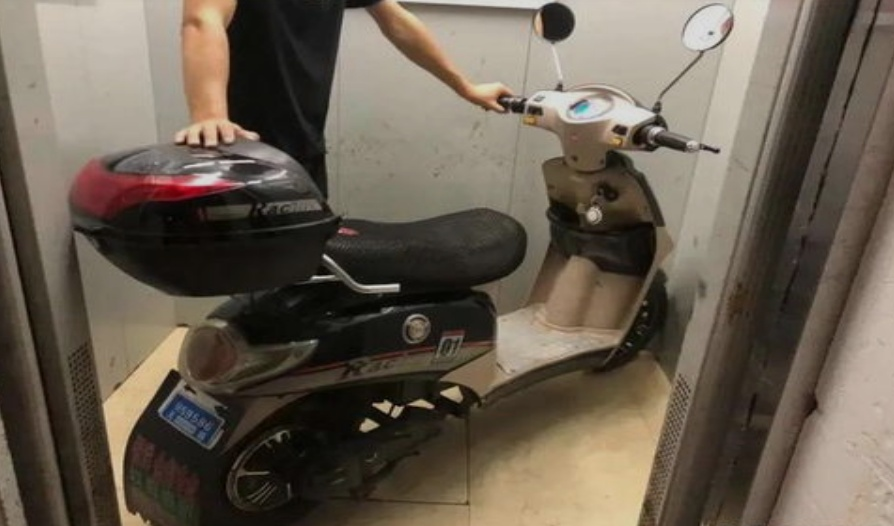ebike: (71, 4, 734, 519)
person: (157, 0, 500, 171)
